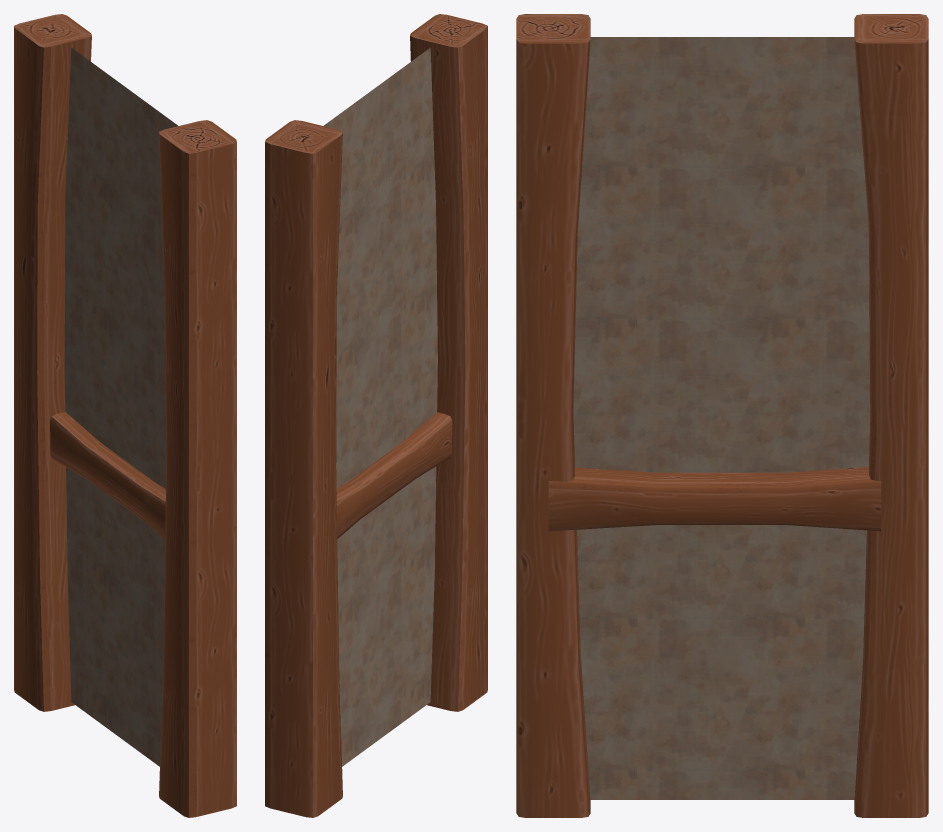
The model's file is SM_Wall_04.fbx.
3 renders of one model, left to right at view 1: azimuth 30°, elevation 25°; view 2: azimuth 150°, elevation 25°; view 3: azimuth 270°, elevation 25°, orthographic. The views are drawn at different scales.
Parts seen in each view (by area): view 1: SM_Wall_04_LOD0; view 2: SM_Wall_04_LOD0; view 3: SM_Wall_04_LOD0.
Part boxes in pixels (bbox=[...]): SM_Wall_04_LOD0: bbox=[14, 14, 236, 817]; SM_Wall_04_LOD0: bbox=[265, 14, 487, 817]; SM_Wall_04_LOD0: bbox=[516, 14, 928, 817].
Bounding box in the file's own units: 58.78 × 334 × 692.
Materials: 2 (2 with a texture image).
